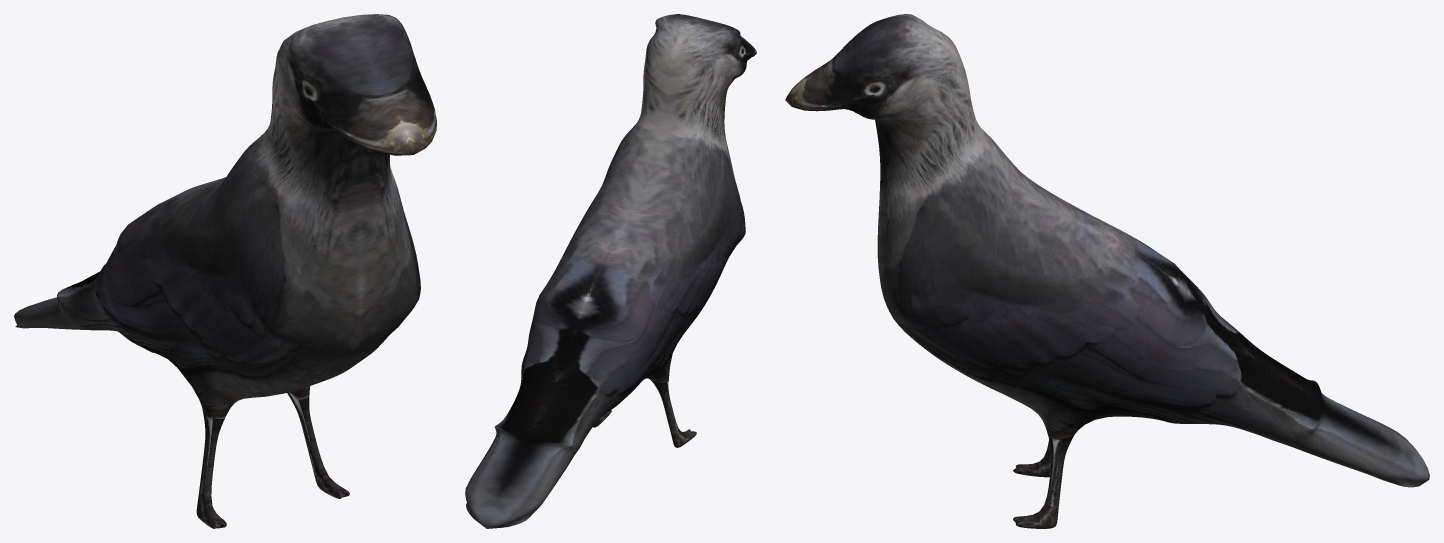
File: Crow.fbx
The picture shows the model from 3 angles, left to right: view 1: azimuth 30°, elevation 25°; view 2: azimuth 150°, elevation 25°; view 3: azimuth 270°, elevation 25°; orthographic projection. The views are drawn at different scales.
Parts seen in each view (by area): view 1: Bird_2; view 2: Bird_2; view 3: Bird_2.
Boxes of the visible parts, box(x1,y1,x2,y2) form: Bird_2: box(14, 14, 436, 528); Bird_2: box(465, 14, 756, 528); Bird_2: box(785, 14, 1429, 528).
Size of the model in its own units: 120 by 362 by 448.
1 material, 1 textured.
